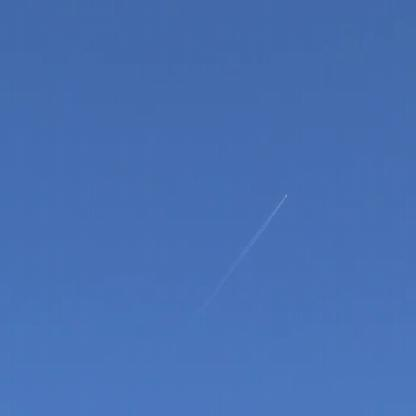CIV_Plane: (283, 187, 290, 204)
